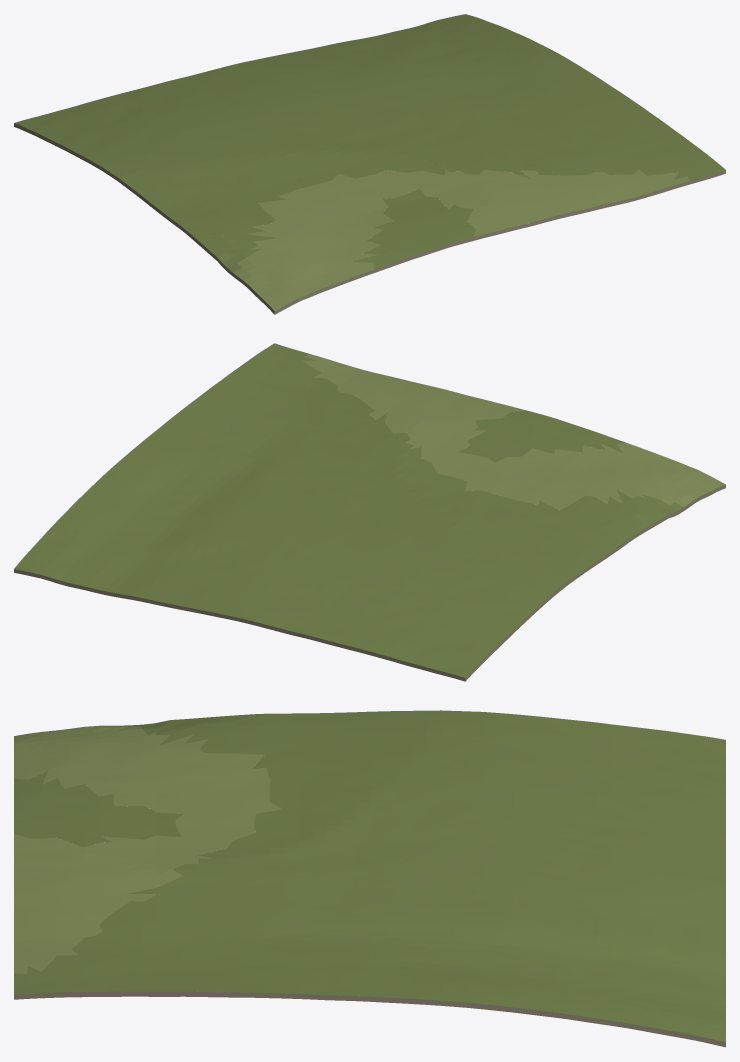
File: parca_+6_+0-uzak.glb
3 views of the same model, one above another, from view 1: azimuth 30°, elevation 25°; view 2: azimuth 150°, elevation 25°; view 3: azimuth 270°, elevation 25° (orthographic). The views are drawn at different scales.
Visible parts, largest first — view 1: parca_+6_+0_arazi_uzak; view 2: parca_+6_+0_arazi_uzak; view 3: parca_+6_+0_arazi_uzak.
Part boxes in pixels (bbox=[...]): parca_+6_+0_arazi_uzak: bbox=[14, 14, 725, 314]; parca_+6_+0_arazi_uzak: bbox=[14, 343, 725, 681]; parca_+6_+0_arazi_uzak: bbox=[14, 710, 725, 1047].
Size of the model in its own units: 1000 by 87.96 by 1000.
